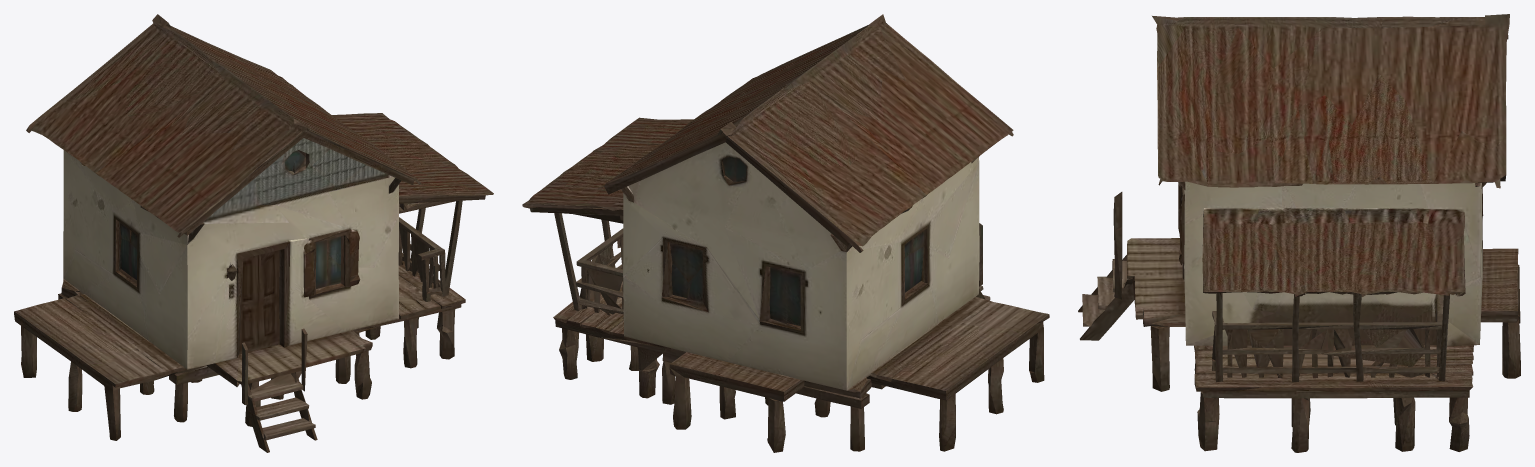
The model's file is Stilt_House_Tin.glb.
3 renders of one model, left to right at view 1: azimuth 30°, elevation 25°; view 2: azimuth 150°, elevation 25°; view 3: azimuth 270°, elevation 25°, orthographic. The views are drawn at different scales.
Size of the model in its own units: 1.9 by 1.36 by 1.59.
1 material, 1 textured.
